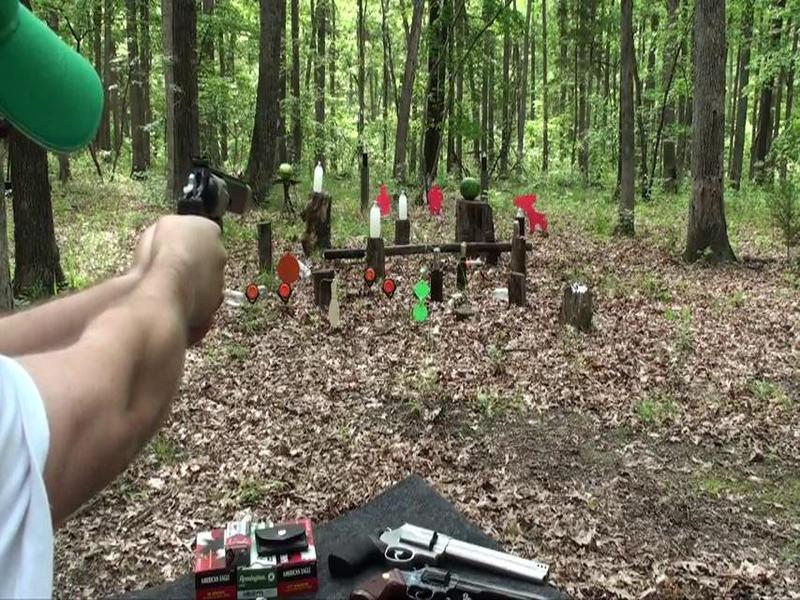Revolver: (151, 153, 270, 258)
